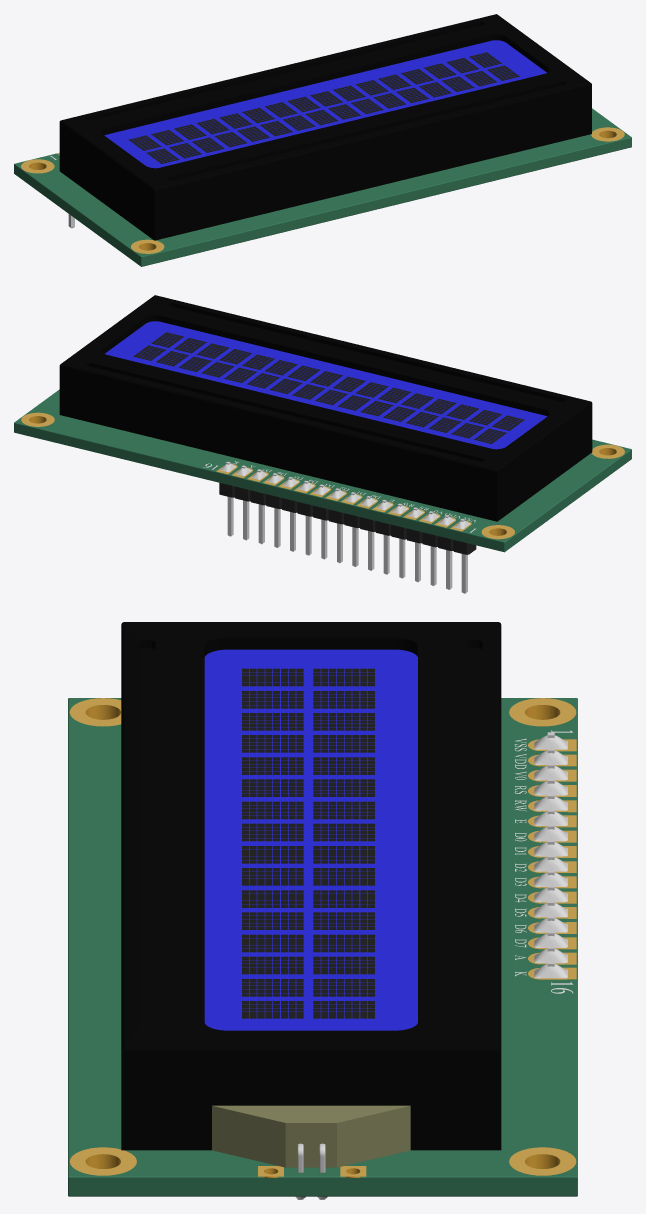
Rendered from display_lcd_16x2_compressed.glb.
3 views of the same model, one above another, from view 1: azimuth 30°, elevation 25°; view 2: azimuth 150°, elevation 25°; view 3: azimuth 270°, elevation 25° (orthographic). The views are drawn at different scales.
Visible parts, largest first — view 1: plastico_preto-material, pcb_verde-material, display_azul_001-material, CINZA-material, Contato_PCB-material; view 2: plastico_preto-material, pcb_verde-material, display_azul_001-material, CINZA-material, metal_parafuso_020-material, plastico_preto_015-material, metal-material (×2), Contato_PCB-material; view 3: plastico_preto-material, pcb_verde-material, display_azul_001-material, CINZA-material, Material_007-material, metal-material (×2), Contato_PCB-material, metal_amarelo_001-material, plastico_branco-material.
Part boxes in pixels (<box>): plastico_preto-material: <box>59,14,591,240</box>; pcb_verde-material: <box>14,108,631,266</box>; display_azul_001-material: <box>104,40,546,168</box>; CINZA-material: <box>128,52,519,163</box>; Contato_PCB-material: <box>21,127,624,253</box>; plastico_preto-material: <box>59,295,592,521</box>; pcb_verde-material: <box>14,389,631,552</box>; display_azul_001-material: <box>105,321,547,449</box>; CINZA-material: <box>133,332,524,443</box>; metal_parafuso_020-material: <box>227,496,467,593</box>; plastico_preto_015-material: <box>219,483,476,554</box>; metal-material (×2): <box>220,461,470,529</box>; Contato_PCB-material: <box>21,412,624,539</box>; plastico_preto-material: <box>121,622,501,1150</box>; pcb_verde-material: <box>68,698,577,1196</box>; display_azul_001-material: <box>204,649,417,1030</box>; CINZA-material: <box>242,668,374,1018</box>; Material_007-material: <box>212,1105,410,1167</box>; metal-material (×2): <box>295,732,567,1199</box>; Contato_PCB-material: <box>69,698,576,1176</box>; metal_amarelo_001-material: <box>85,705,560,1177</box>; plastico_branco-material: <box>514,738,526,976</box>.
Size of the model in its own units: 0.08 by 0.0189 by 0.036.
